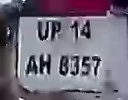1: (70, 18, 82, 45)
3: (70, 52, 80, 77)
4: (80, 20, 94, 42)
5: (80, 54, 91, 76)
7: (91, 53, 102, 80)
8: (58, 52, 70, 76)
A: (25, 53, 38, 77)
H: (37, 53, 53, 76)
P: (50, 19, 60, 44)
U: (36, 18, 49, 42)
